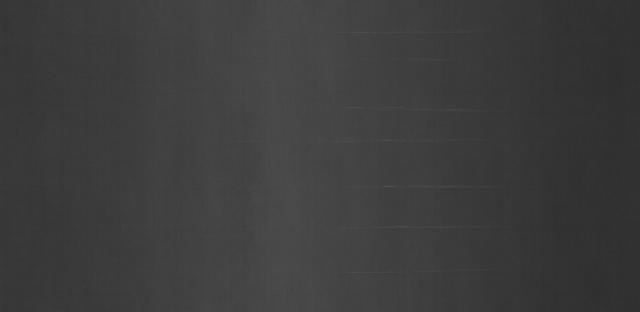waist_folding: (347, 34, 531, 264)
